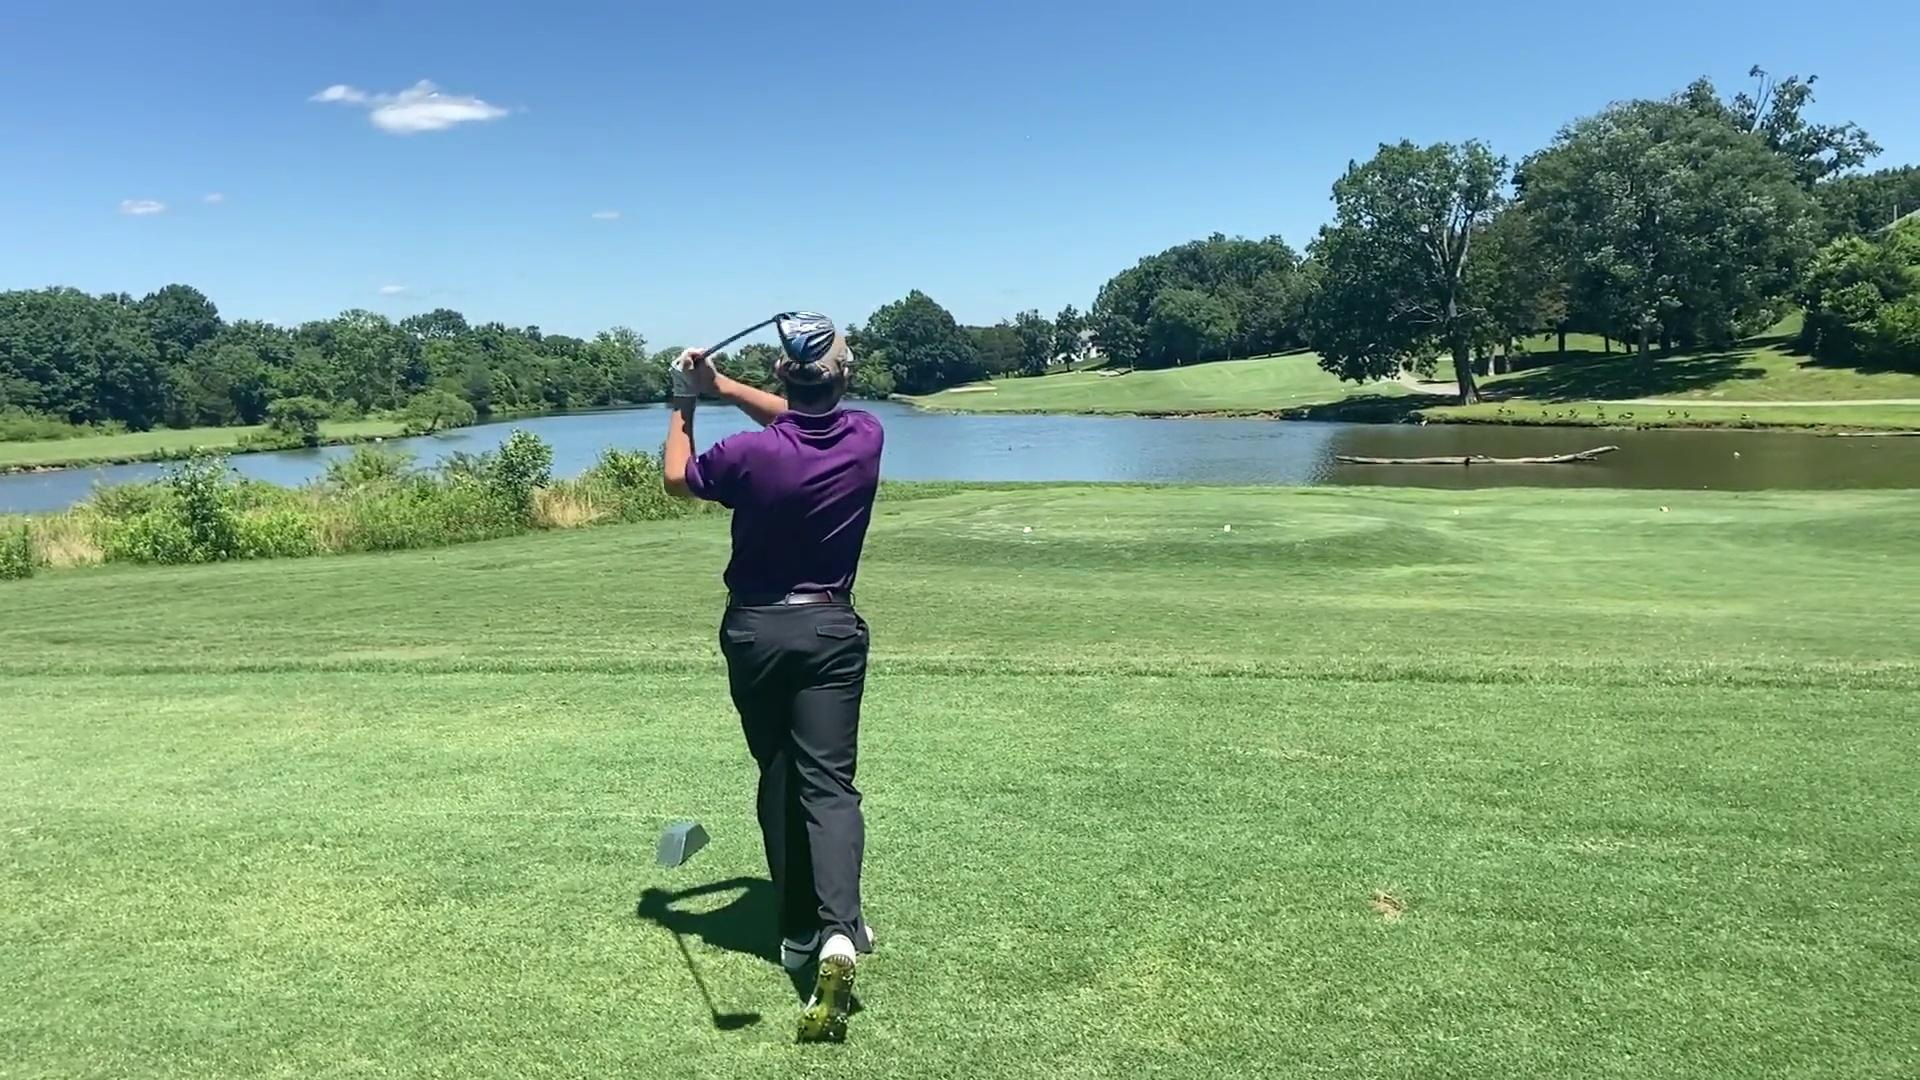ClubHead: (765, 309, 837, 363)
